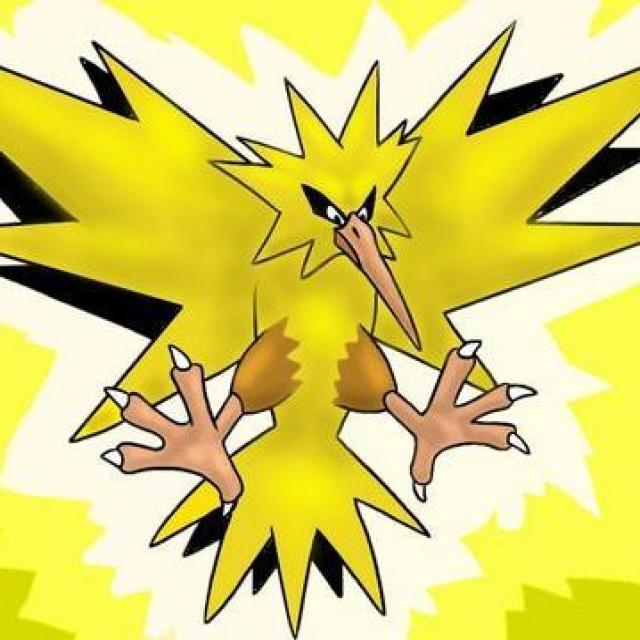Zapdos: (66, 7, 536, 537)
